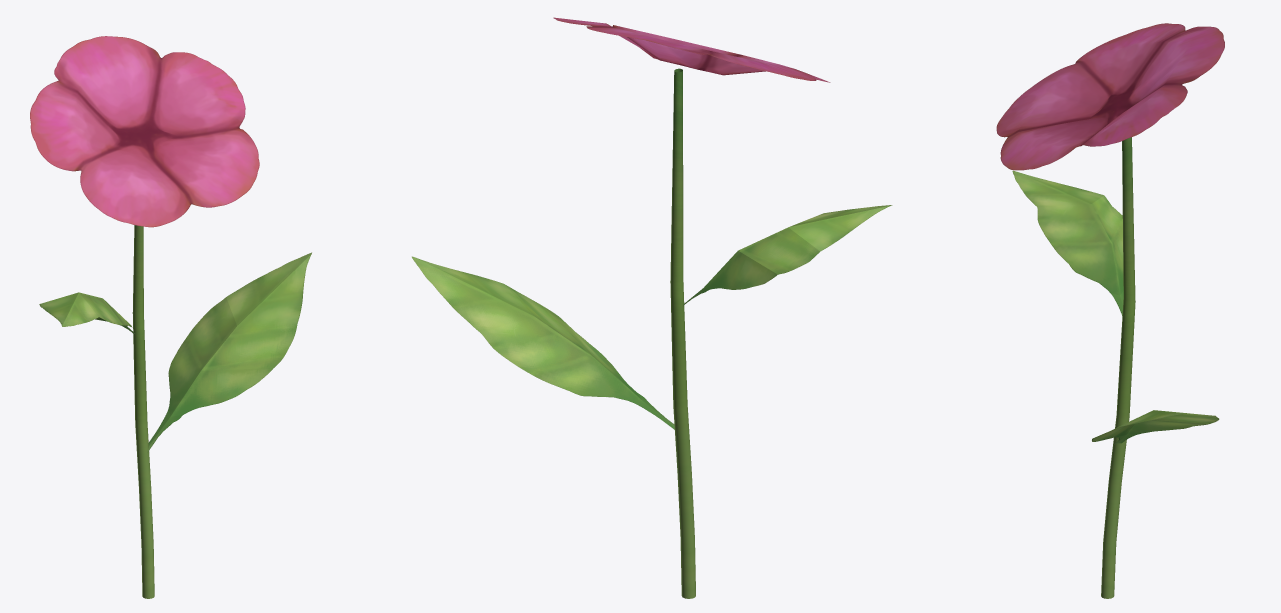
File: bunga 3_rev1.fbx
3 renders of one model, left to right at view 1: azimuth 30°, elevation 25°; view 2: azimuth 150°, elevation 25°; view 3: azimuth 270°, elevation 25°, orthographic. The views are drawn at different scales.
Visible parts, largest first — view 1: bunga 3.kelopak, bunga 3.Daun2, bunga 3.Batang, bunga 3.Daun1; view 2: bunga 3.Daun2, bunga 3.Batang, bunga 3.Daun1, bunga 3.kelopak; view 3: bunga 3.kelopak, bunga 3.Daun1, bunga 3.Batang, bunga 3.Daun2.
Part boxes in pixels (x1,y1,x2,y2): bunga 3.kelopak: (30, 36, 259, 227); bunga 3.Daun2: (147, 252, 311, 452); bunga 3.Batang: (132, 225, 154, 598); bunga 3.Daun1: (39, 292, 135, 333); bunga 3.Daun2: (412, 256, 674, 429); bunga 3.Batang: (670, 68, 695, 598); bunga 3.Daun1: (683, 205, 892, 305); bunga 3.kelopak: (553, 17, 830, 82); bunga 3.kelopak: (996, 23, 1224, 170); bunga 3.Daun1: (1012, 170, 1123, 315); bunga 3.Batang: (1101, 137, 1135, 598); bunga 3.Daun2: (1092, 410, 1219, 444).
Size of the model in its own units: 215 by 287 by 140.
Materials: 1 (1 with a texture image).
